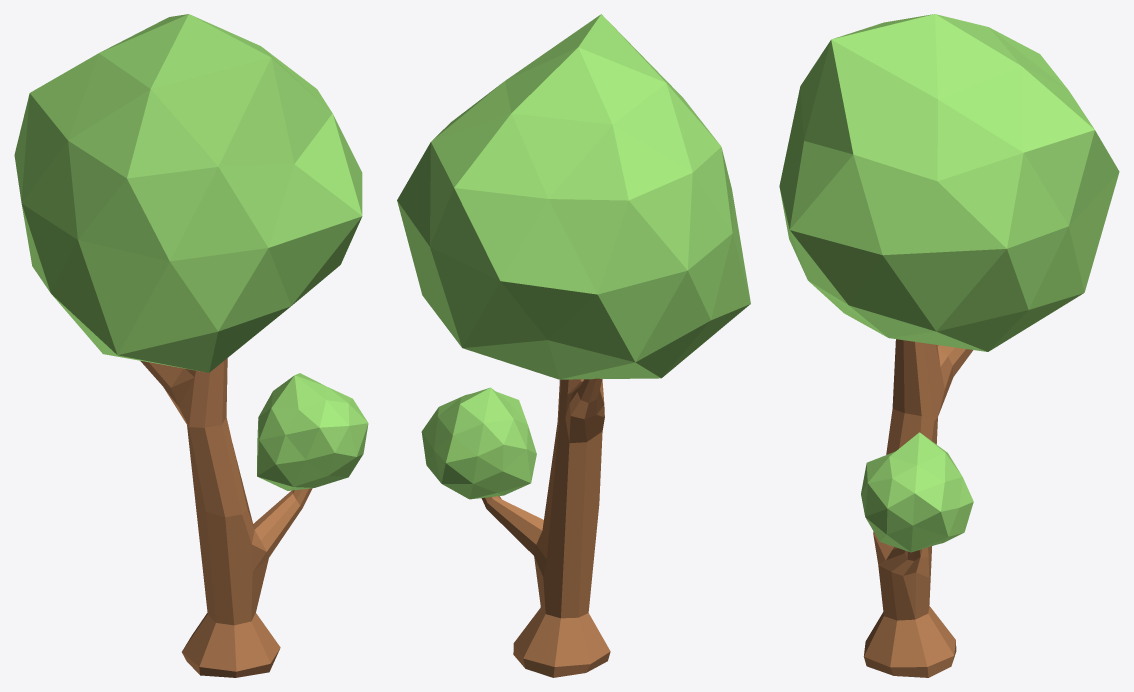
The model's file is Tree6.fbx.
The picture shows the model from 3 angles, left to right: view 1: azimuth 30°, elevation 25°; view 2: azimuth 150°, elevation 25°; view 3: azimuth 270°, elevation 25°; orthographic projection. The views are drawn at different scales.
Parts seen in each view (by area): view 1: Tree6; view 2: Tree6; view 3: Tree6.
Part boxes in pixels (left/top/right/bottom): Tree6: left=14, top=14, right=368, bottom=677; Tree6: left=397, top=14, right=750, bottom=677; Tree6: left=779, top=14, right=1119, bottom=677.
Bounding box in the file's own units: 346 × 714 × 349.
